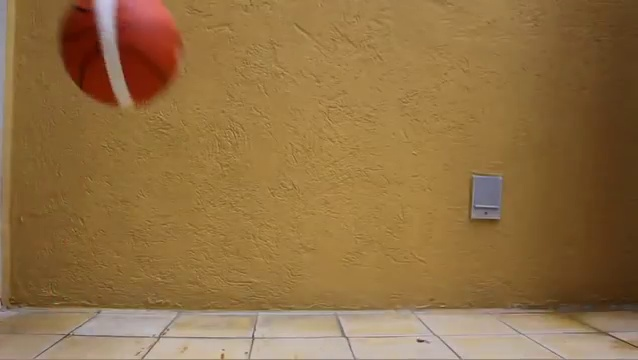ball: (60, 1, 184, 111)
